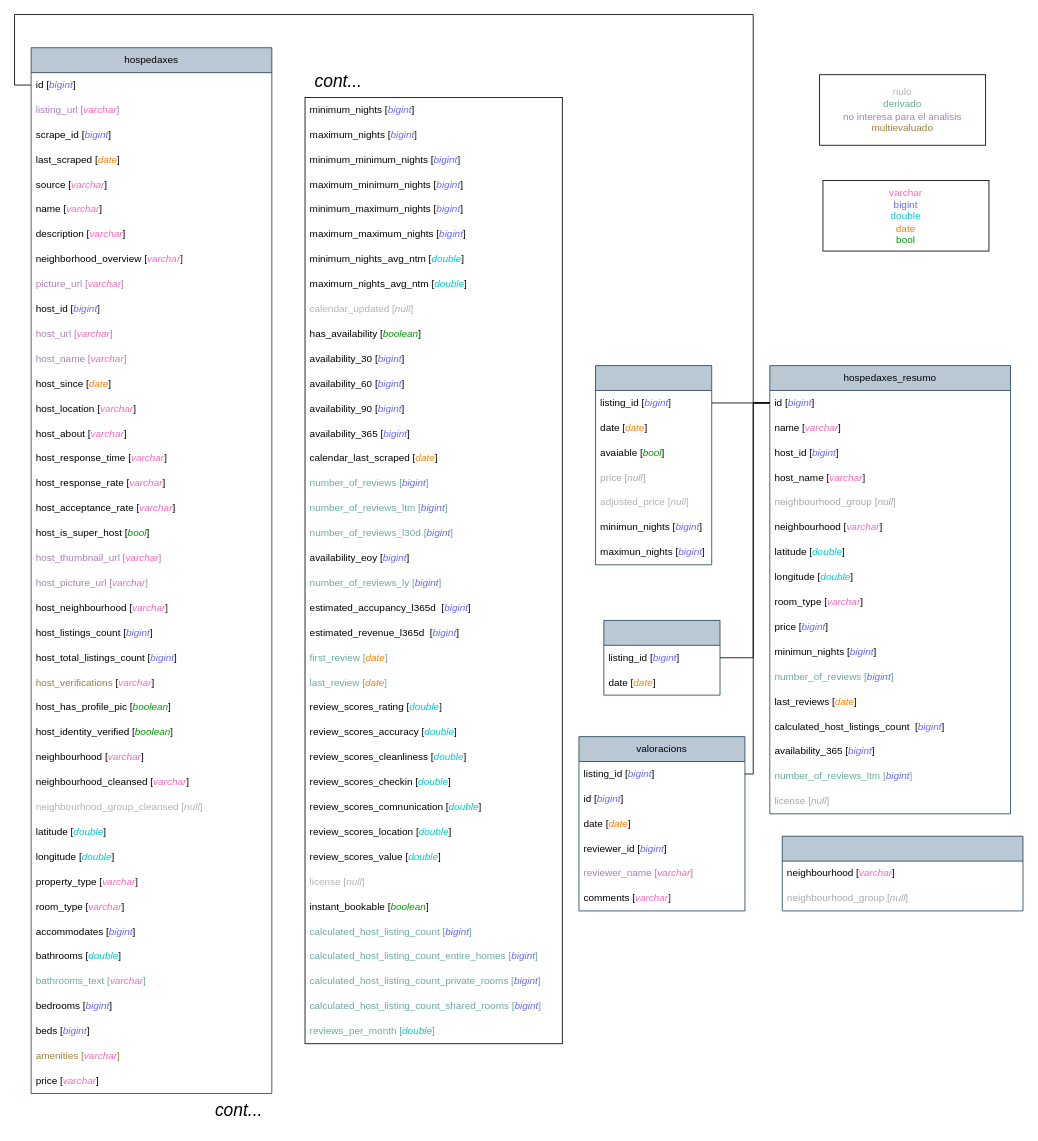
Image size: 1038x1141. Some labels were removed from this diagram. Each missing label, with the box of its shape:
calendario: (595, 365, 712, 565)
valoracions_resumo: (603, 620, 720, 695)
vecindario: (781, 835, 1023, 911)
